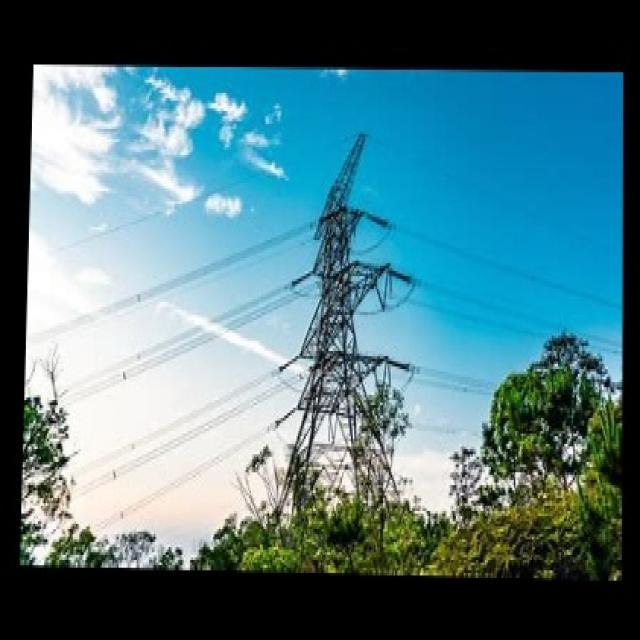utility poles: (481, 263, 596, 459), (332, 372, 436, 516)
